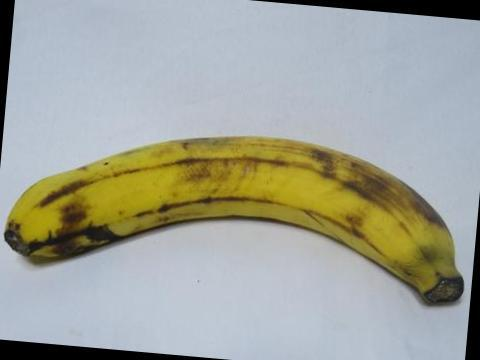overripe: (3, 111, 478, 314)
